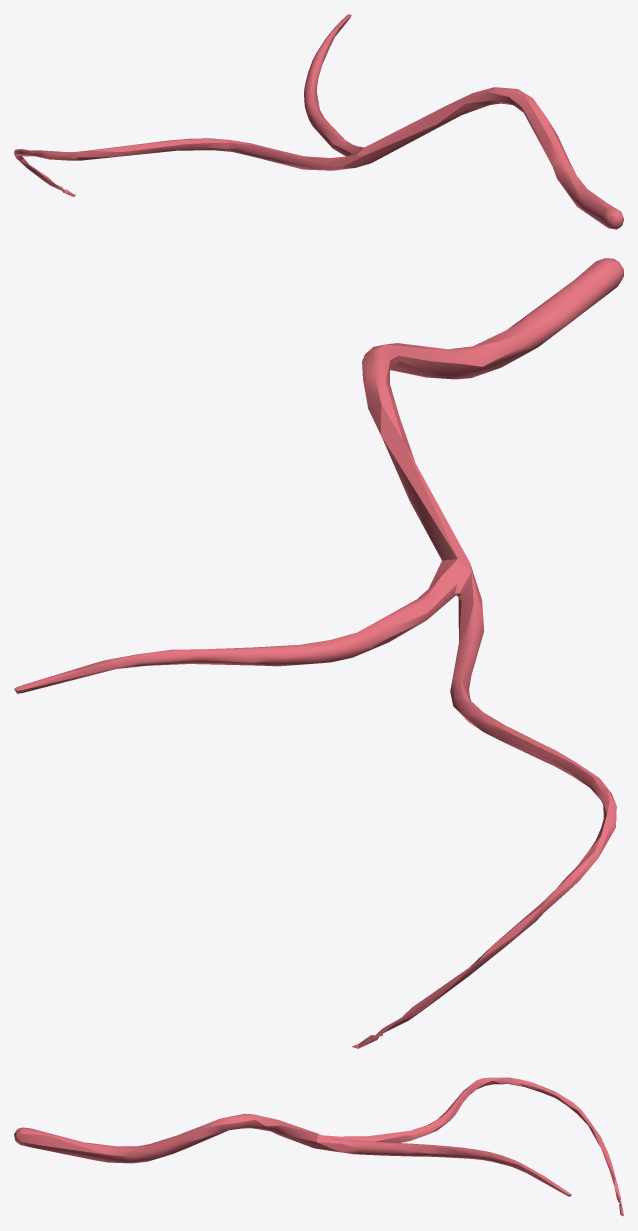
File: fma50578_fj1683.glb
3 views of the same model, one above another, from view 1: azimuth 30°, elevation 25°; view 2: azimuth 150°, elevation 25°; view 3: azimuth 270°, elevation 25° (orthographic). The views are drawn at different scales.
Parts seen in each view (by area): view 1: FMA50578_FJ1683; view 2: FMA50578_FJ1683; view 3: FMA50578_FJ1683.
Boxes of the visible parts, x1,y1,x2,y2 form: FMA50578_FJ1683: (14,14,623,229); FMA50578_FJ1683: (14,258,623,1048); FMA50578_FJ1683: (14,1077,623,1216).
Size of the model in its own units: 0.0312 by 0.019 by 0.0556.
